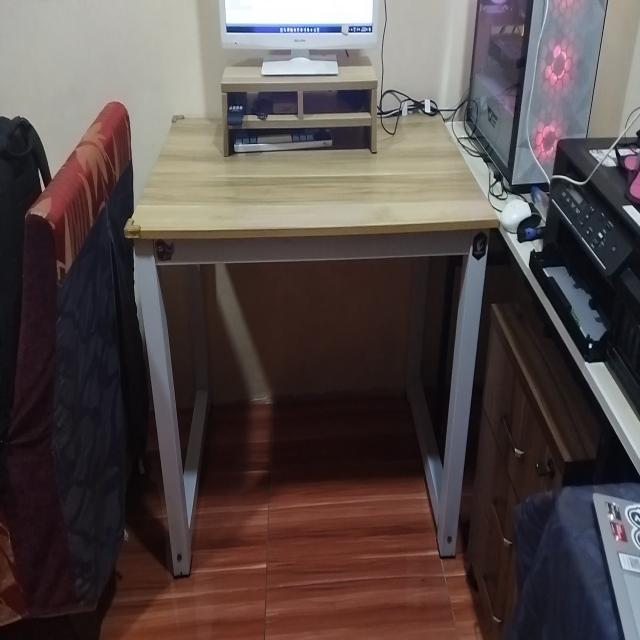table: (119, 101, 503, 587)
